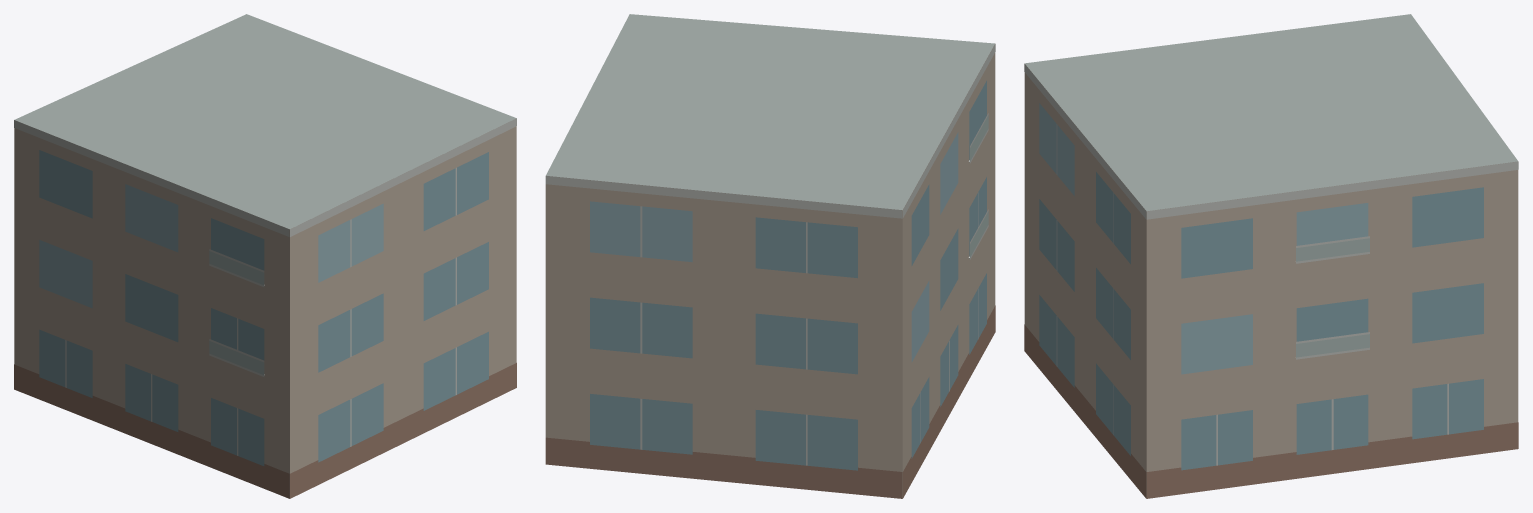
The model's file is survey-upis-32505490.glb.
3 renders of one model, left to right at view 1: azimuth 30°, elevation 25°; view 2: azimuth 150°, elevation 25°; view 3: azimuth 270°, elevation 25°, orthographic. The views are drawn at different scales.
Visible parts, largest first — view 1: survey-upis-32505490.tmp; view 2: survey-upis-32505490.tmp; view 3: survey-upis-32505490.tmp.
Part boxes in pixels (<box>): survey-upis-32505490.tmp: <box>14,14,516,498</box>; survey-upis-32505490.tmp: <box>545,14,995,498</box>; survey-upis-32505490.tmp: <box>1024,14,1518,498</box>.
Size of the model in its own units: 12.22 by 8.3 by 12.93.
